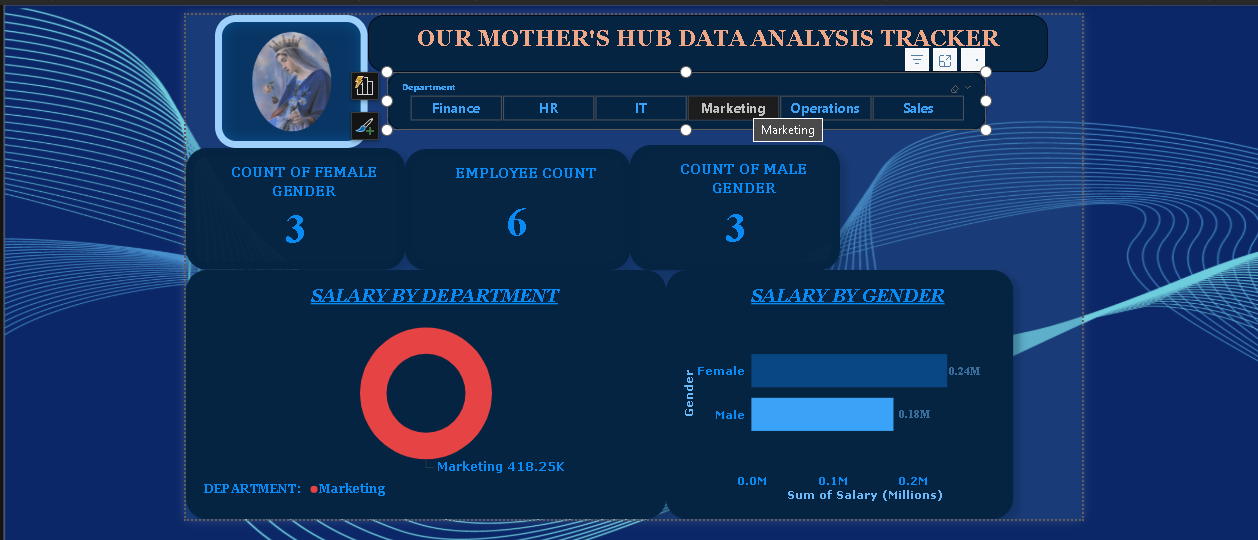

The dashboard page shown, as its layout file describes it:
{"tool":"powerbi","page":{"name":"Page REPORT","canvas":[1280,720],"ordinal":0},"visuals":[{"type":"card","title":"EMPLOYEE COUNT","fields":{"Values":["HR_Employee_Data.Measure 2"]},"box":[312.9,190,321.4,174.3],"z":0},{"type":"card","title":" COUNT OF MALE GENDER","fields":{"Values":["Count(HR_Employee_Data)"]},"box":[634.3,185.7,300,178.6],"z":1000},{"type":"card","title":" COUNT OF FEMALE GENDER","fields":{"Values":["Count(HR_Employee_Data)"]},"box":[0,190,312.9,174.3],"z":2000},{"type":"textbox","box":[260,0,971.4,81.4],"z":3000},{"type":"image","box":[41.7,0,218.3,190],"z":4000},{"type":"donutChart","title":"SALARY BY DEPARTMENT","fields":{"Y":["Sum(HR_Employee_Data.Salary)"],"Category":["HR_Employee_Data.Department"]},"box":[0,364.3,685.7,355.7],"z":5000},{"type":"clusteredBarChart","title":"SALARY BY GENDER","fields":{"Y":["Sum(HR_Employee_Data.Salary)"],"Category":["HR_Employee_Data.Gender"]},"box":[685.7,364.3,495.7,355.7],"z":6000},{"type":"slicer","fields":{"Values":["HR_Employee_Data.Department"]},"box":[287.1,81.4,855.7,82.9],"z":7000}]}

Visuals, with their boxes on the page's 1280x720 design canvas (x1, y1, x2, y2). These are canvas units, not pixel positions in the 1258x540 screenshot, which may show the page scaled, cropped or inside an application window:
"EMPLOYEE COUNT" card: Rect(313, 190, 634, 364)
" COUNT OF MALE GENDER" card: Rect(634, 186, 934, 364)
" COUNT OF FEMALE GENDER" card: Rect(0, 190, 313, 364)
textbox: Rect(260, 0, 1231, 81)
image: Rect(42, 0, 260, 190)
"SALARY BY DEPARTMENT" donutChart: Rect(0, 364, 686, 720)
"SALARY BY GENDER" clusteredBarChart: Rect(686, 364, 1181, 720)
slicer - HR_Employee_Data.Department: Rect(287, 81, 1143, 164)
